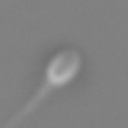normal: (1, 81, 51, 128)
